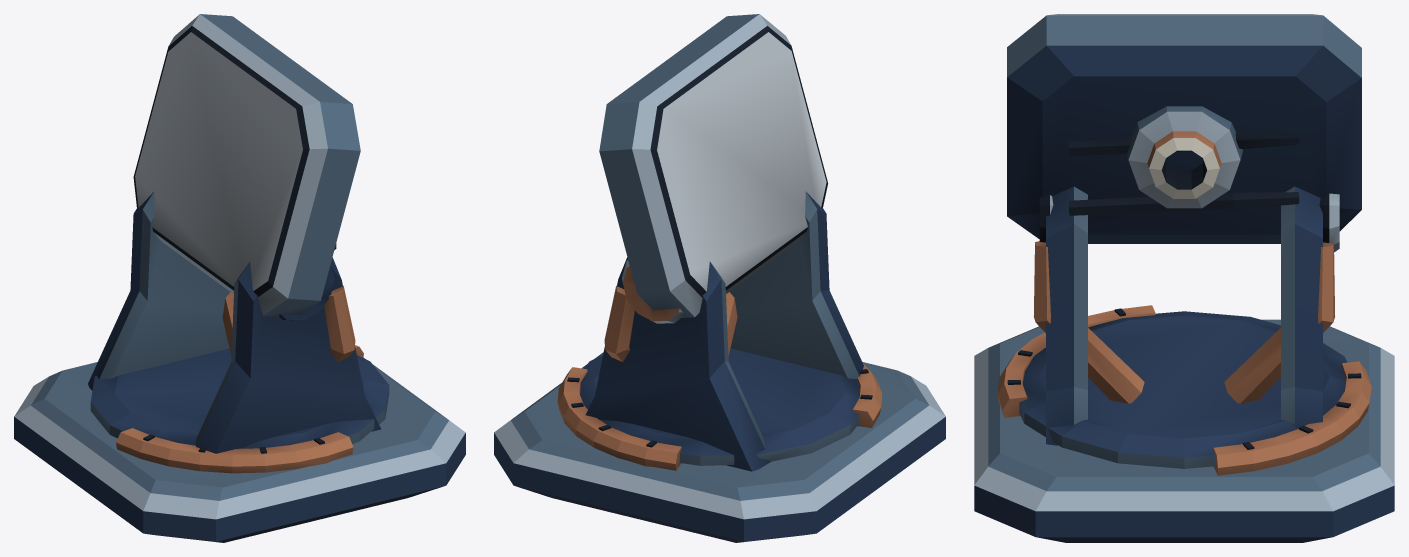
The model's file is mirror.glb.
3 views of the same model, side by side, from view 1: azimuth 30°, elevation 25°; view 2: azimuth 150°, elevation 25°; view 3: azimuth 270°, elevation 25° (orthographic). The views are drawn at different scales.
Parts seen in each view (by area): view 1: mirror; view 2: mirror; view 3: mirror.
Part boxes in pixels (x1,y1,x2,y2): mirror: [14, 14, 465, 542]; mirror: [494, 14, 945, 542]; mirror: [974, 14, 1394, 542].
Size of the model in its own units: 0.98 by 1.17 by 0.96.
